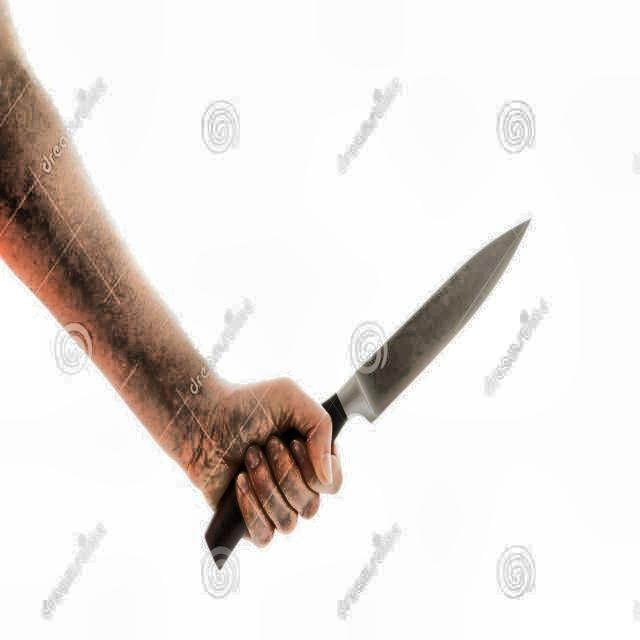knife: (205, 218, 529, 566)
